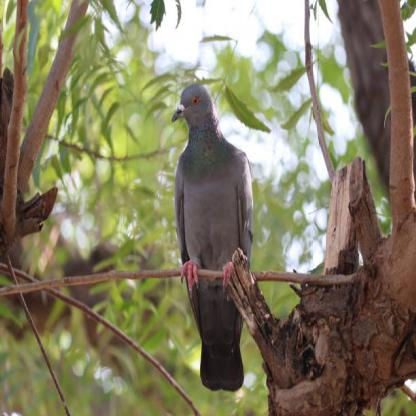Rock Pigeon: (167, 80, 259, 395)
